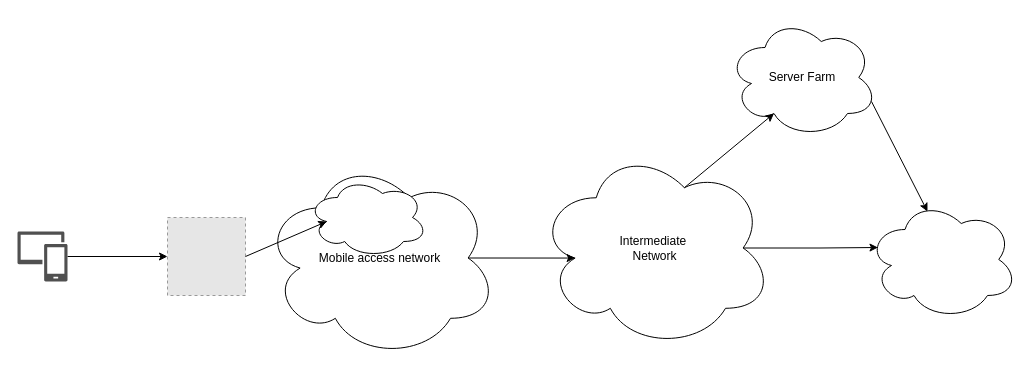
Image size: 1035x376. Some labels were removed from this diagram. Grey dashed boxes stand in for pictures. The shapes that lost their labels are listed below. From the top down, each one's centre as x and y in pixels, then its label:
pixel 367 217: Private APN
pixel 942 259: Internet
